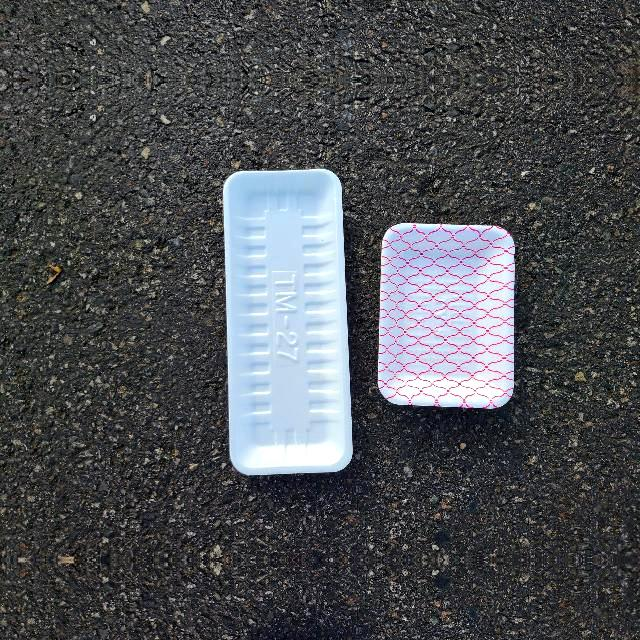Styrofoam: (222, 170, 354, 480), (223, 169, 352, 475), (379, 222, 516, 410), (378, 223, 516, 408)
